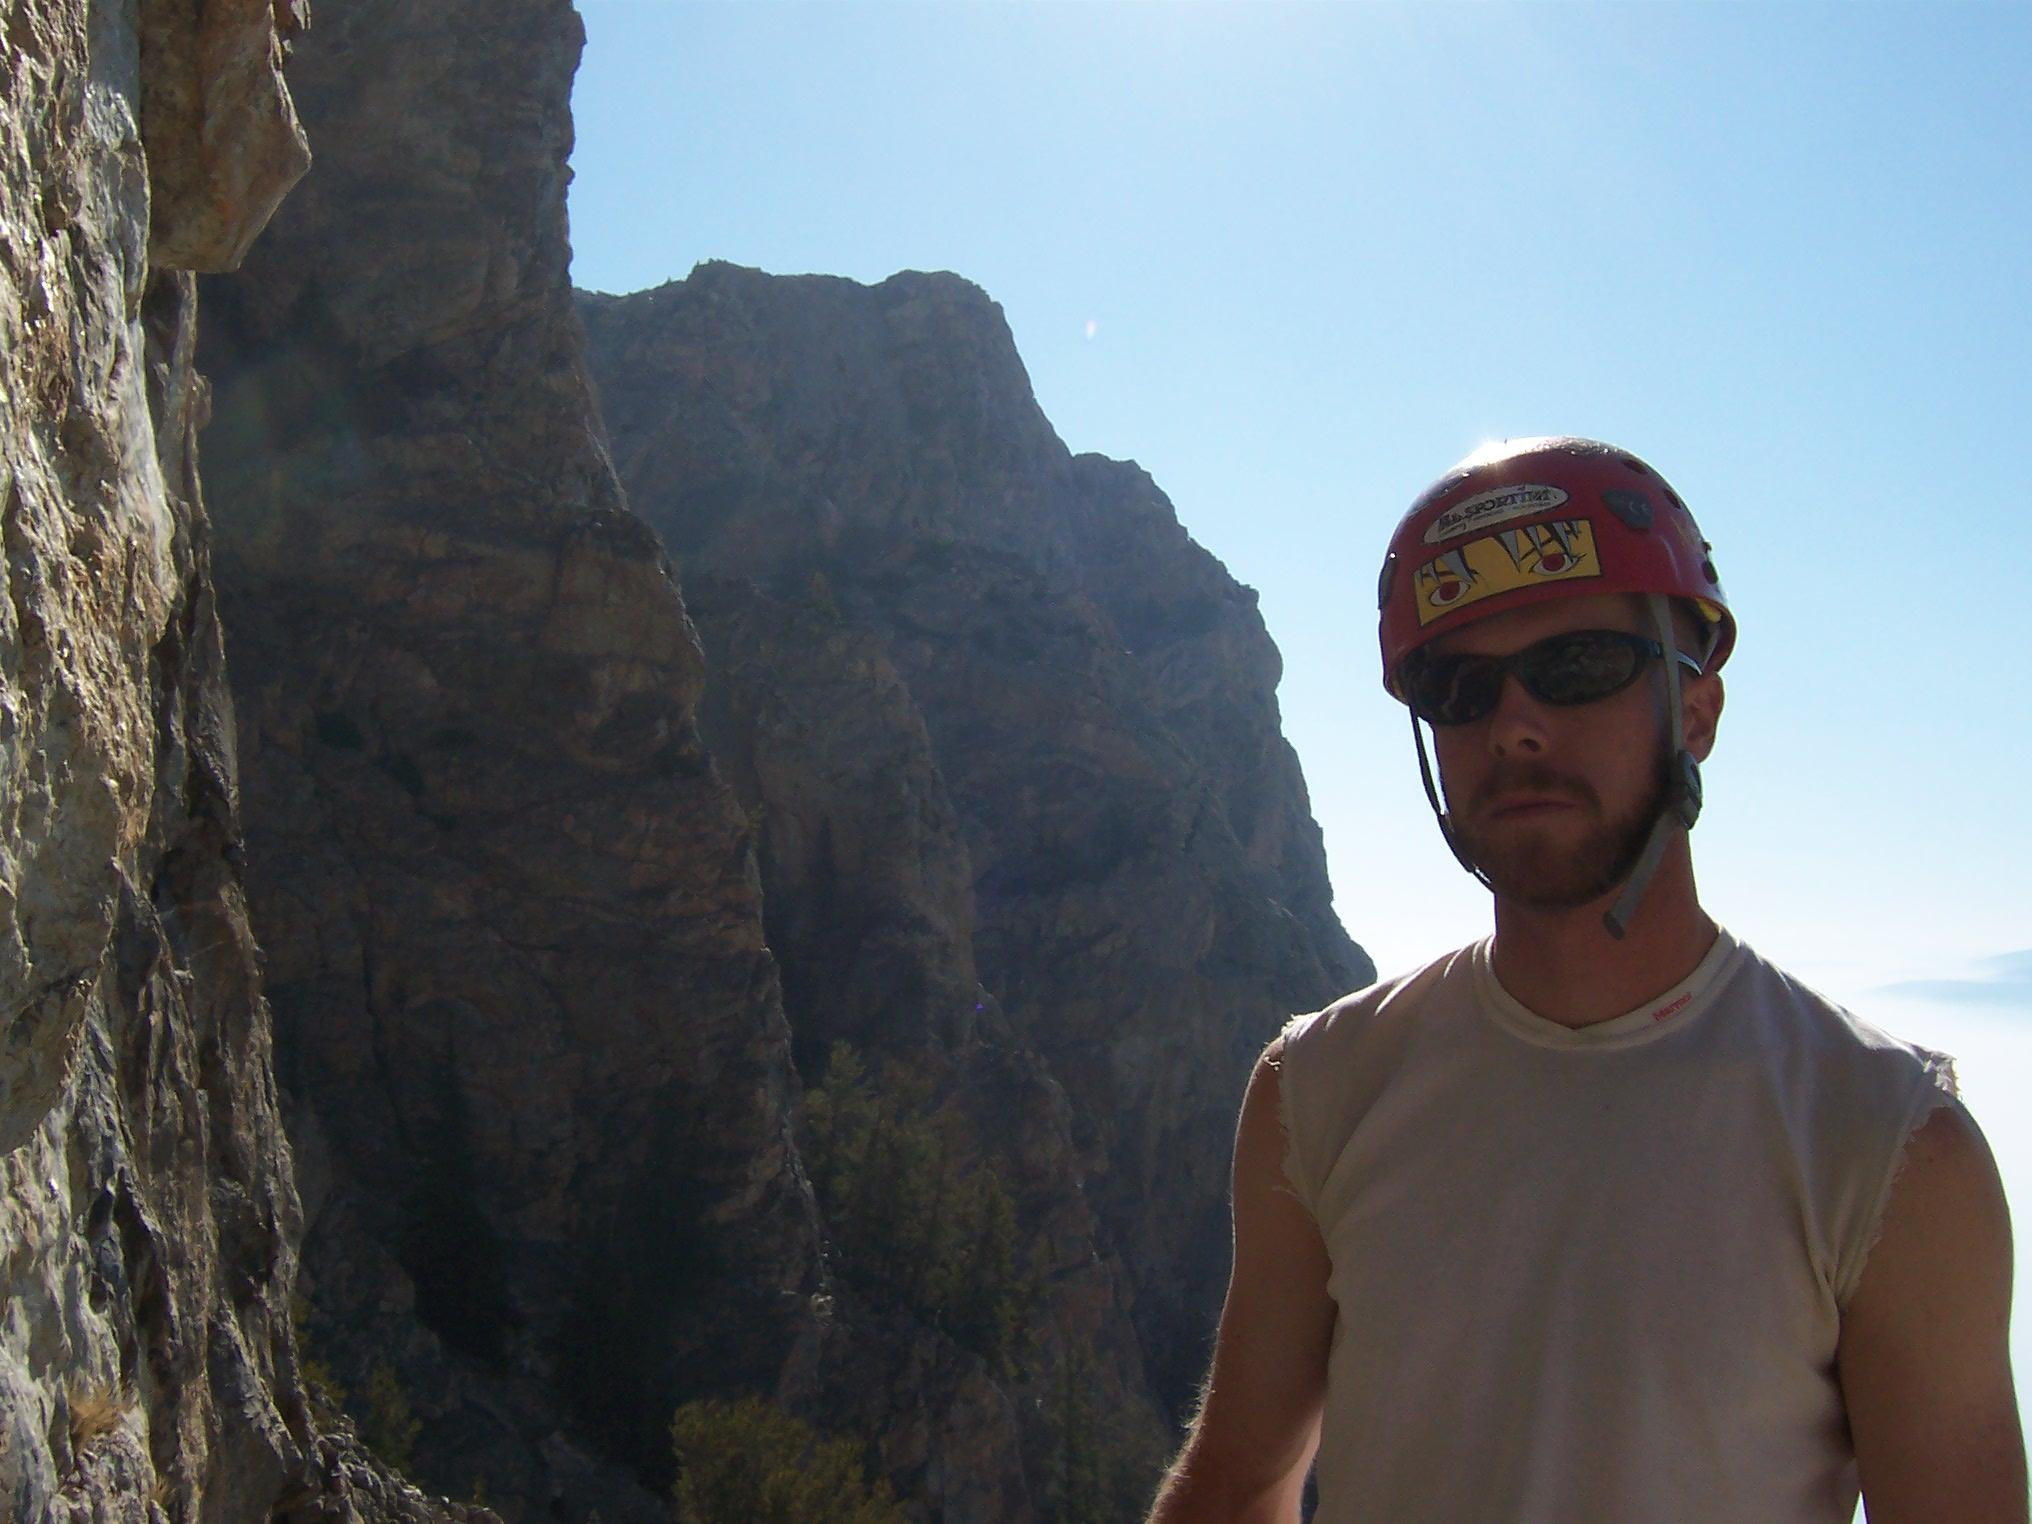helmet: (1362, 427, 1742, 706)
